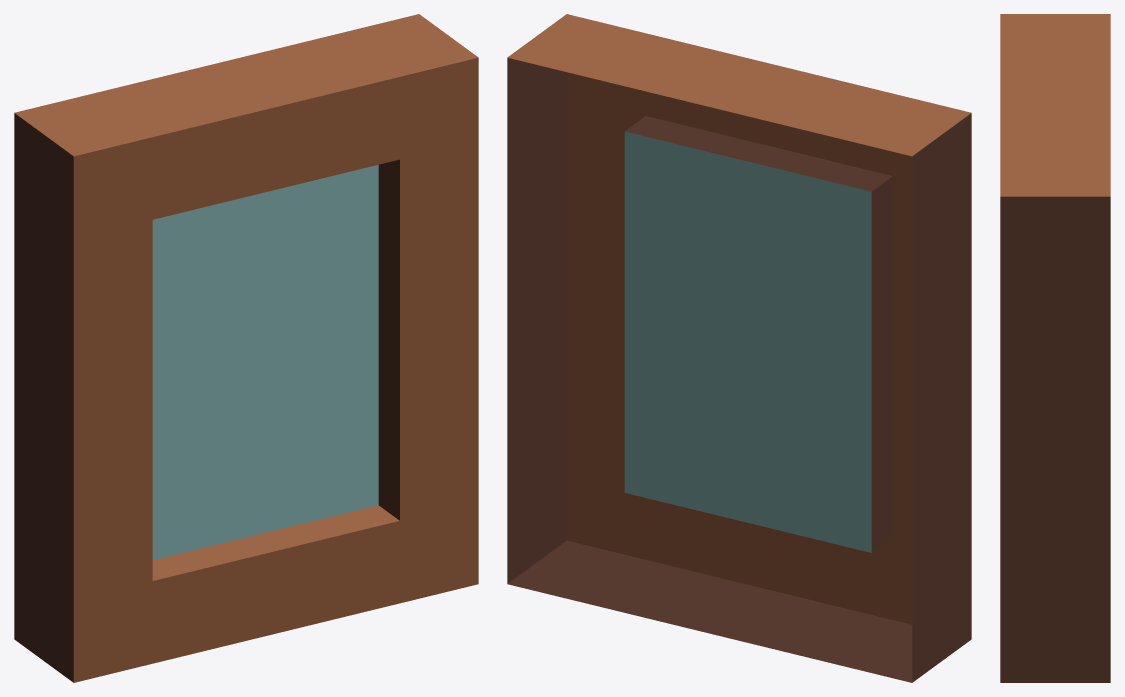
File: TB_Bd_Window.FBX
The picture shows the model from 3 angles, left to right: view 1: azimuth 30°, elevation 25°; view 2: azimuth 150°, elevation 25°; view 3: azimuth 270°, elevation 25°; orthographic projection. The views are drawn at different scales.
Parts seen in each view (by area): view 1: TB_Bd_Window; view 2: TB_Bd_Window; view 3: TB_Bd_Window.
Boxes of the visible parts, <box> form: TB_Bd_Window: <box>14,14,478,682</box>; TB_Bd_Window: <box>507,14,971,682</box>; TB_Bd_Window: <box>1000,14,1110,682</box>.
Bounding box in the file's own units: 1.03 × 1.27 × 0.2616.
